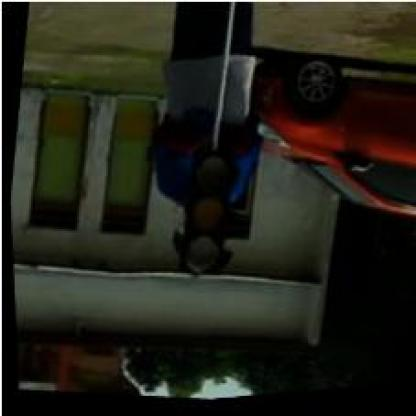yellow: (169, 148, 242, 284)
